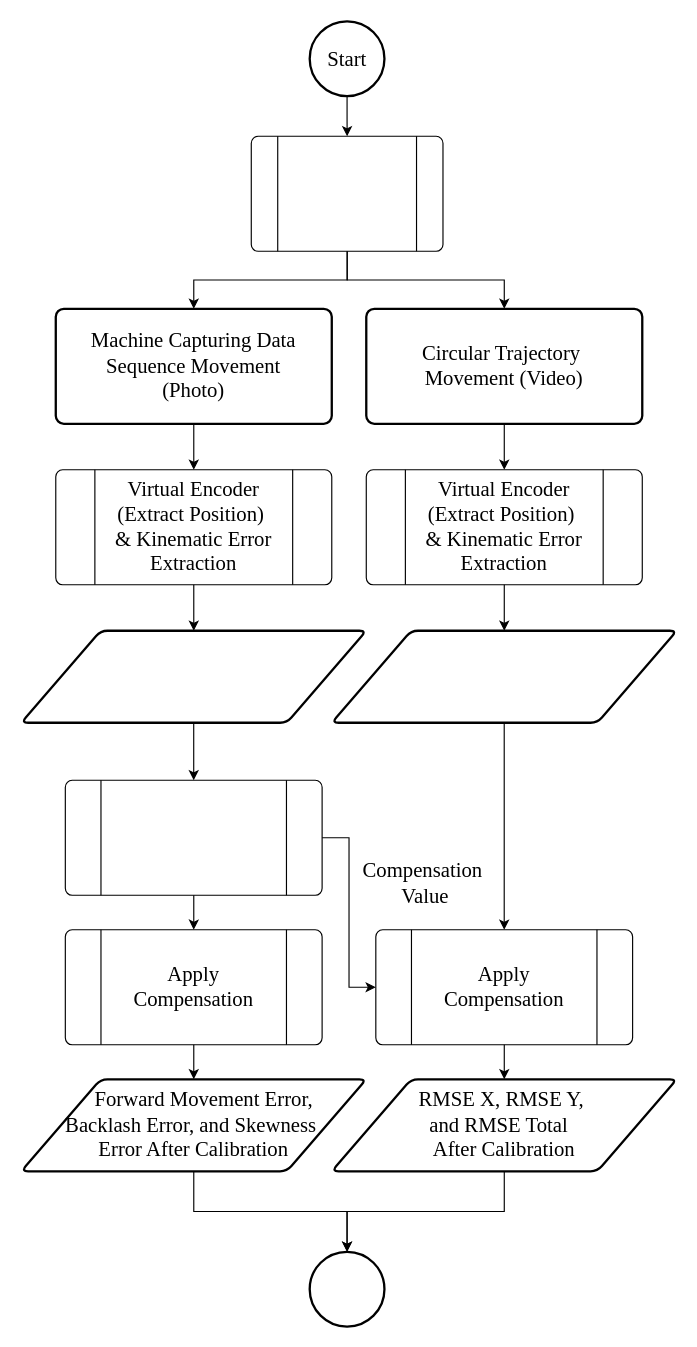
This 697x1347 diagram has some shape labels left out. The centre of each missing label's shape, as x and y in pixels:
Camera Calibration: [346,193]
Compensation Calculation: [193,837]
End: [346,1288]
Forward Movement Error, Backlash Error, and Skewness Error: [193,676]
RMSE X, RMSE Y, and RMSE Total from Ground Truth (G-Code): [503,676]
